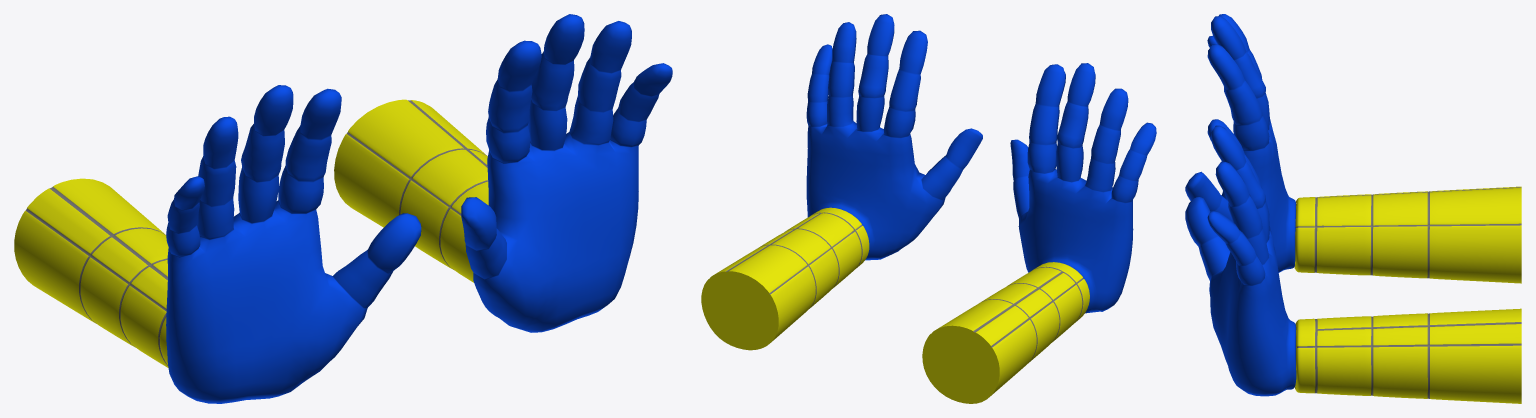
File: hand2.fbx
3 renders of one model, left to right at view 1: azimuth 30°, elevation 25°; view 2: azimuth 150°, elevation 25°; view 3: azimuth 270°, elevation 25°, orthographic. The views are drawn at different scales.
Visible parts, largest first — view 1: polySurface5, polySurface1, polySurface6, polySurface2; view 2: polySurface1, polySurface5, polySurface2, polySurface6; view 3: polySurface6, polySurface2, polySurface1, polySurface5.
Boxes of the visible parts, x1,y1,x2,y2 form: polySurface5: [166, 85, 421, 403]; polySurface1: [461, 14, 672, 332]; polySurface6: [14, 178, 168, 367]; polySurface2: [334, 99, 488, 282]; polySurface1: [806, 14, 982, 260]; polySurface5: [1010, 63, 1156, 313]; polySurface2: [701, 207, 869, 350]; polySurface6: [922, 262, 1089, 403]; polySurface6: [1294, 186, 1521, 283]; polySurface2: [1294, 308, 1521, 403]; polySurface1: [1185, 119, 1296, 396]; polySurface5: [1185, 14, 1295, 272].
Size of the model in its own units: 30.1 by 20.14 by 23.06.
